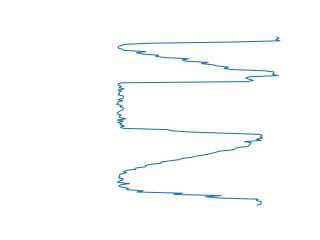distributaryChannelFill: (113, 73, 268, 143)
mouthBar: (115, 36, 282, 74)
underwaterDistributaryChannel: (113, 135, 266, 208)
